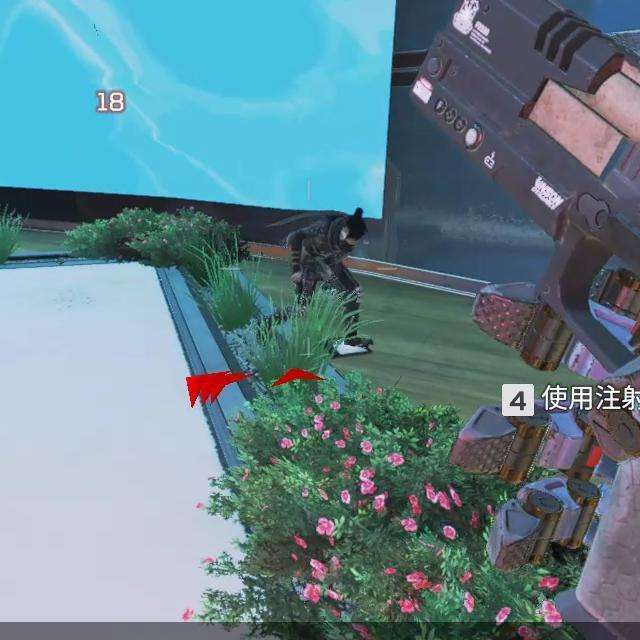avatar: (284, 206, 370, 293)
